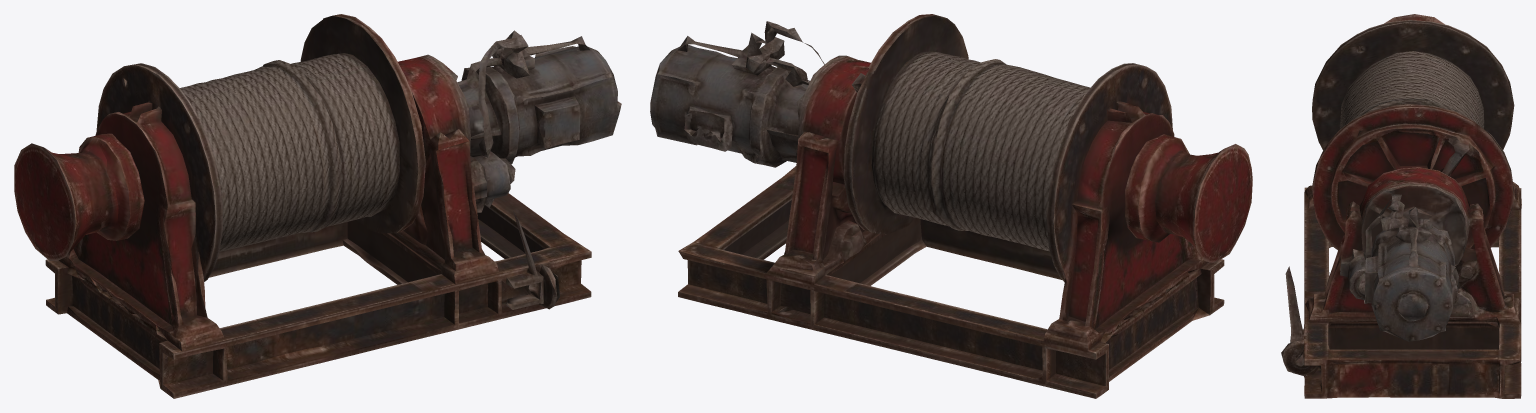
The model's file is m4_motor_redes.glb.
3 views of the same model, side by side, from view 1: azimuth 30°, elevation 25°; view 2: azimuth 150°, elevation 25°; view 3: azimuth 270°, elevation 25° (orthographic). The views are drawn at different scales.
Bounding box in the file's own units: 1.9 × 0.8605 × 0.831.
Materials: 1 (1 with a texture image).
